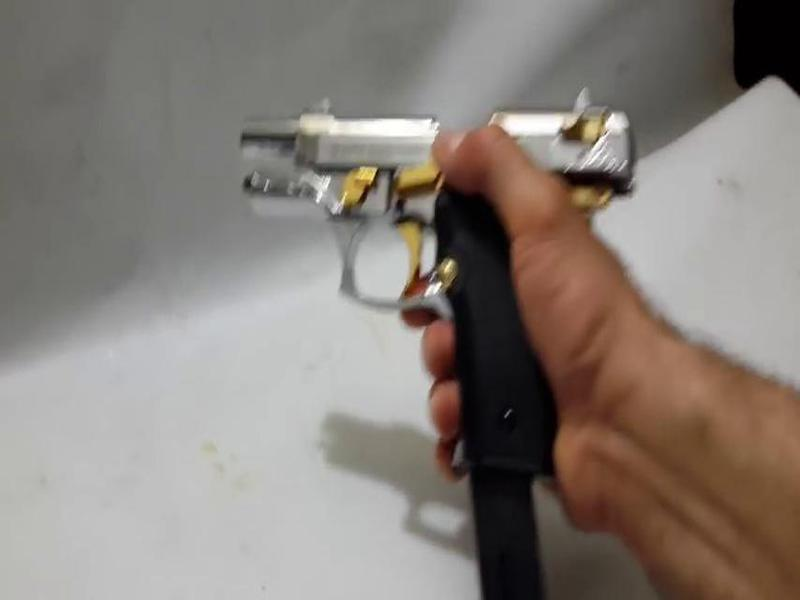Pistola: (226, 78, 696, 477)
